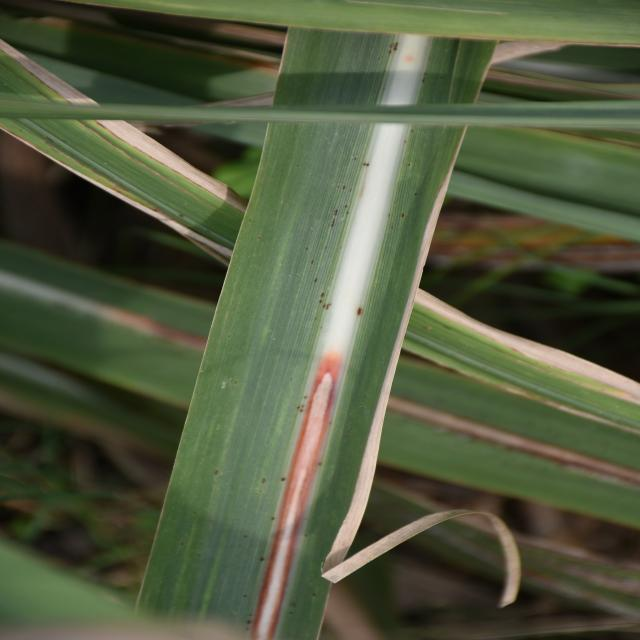Sugarcane: (0, 230, 640, 541), (390, 297, 640, 457), (8, 109, 238, 258), (13, 0, 640, 48), (0, 94, 640, 131), (439, 166, 640, 262), (499, 539, 640, 613)
